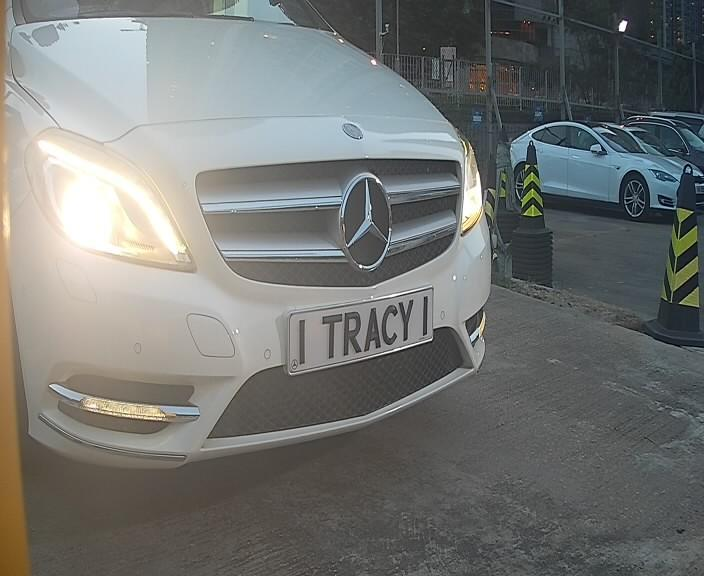License Plate: (277, 283, 437, 379)
